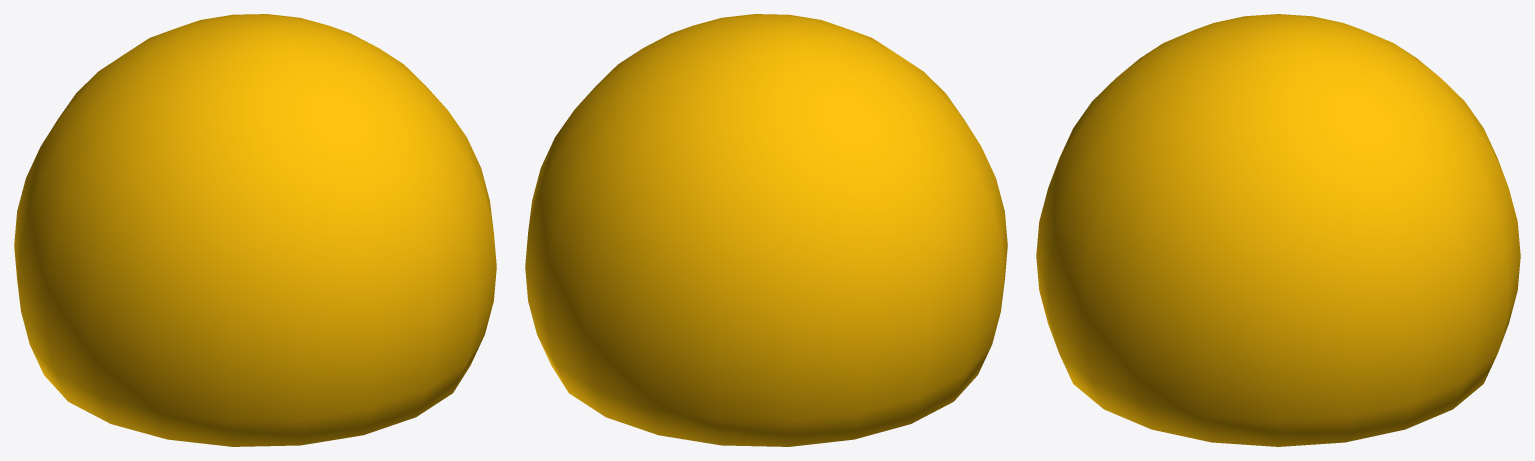
The model's file is slime3.fbx.
The picture shows the model from 3 angles, left to right: view 1: azimuth 30°, elevation 25°; view 2: azimuth 150°, elevation 25°; view 3: azimuth 270°, elevation 25°; orthographic projection.
Parts seen in each view (by area): view 1: pSphere9; view 2: pSphere9; view 3: pSphere9.
Part boxes in pixels (<box>): pSphere9: <box>14,14,496,446</box>; pSphere9: <box>525,14,1007,446</box>; pSphere9: <box>1036,14,1520,446</box>.
Size of the model in its own units: 2 by 1.46 by 2.
